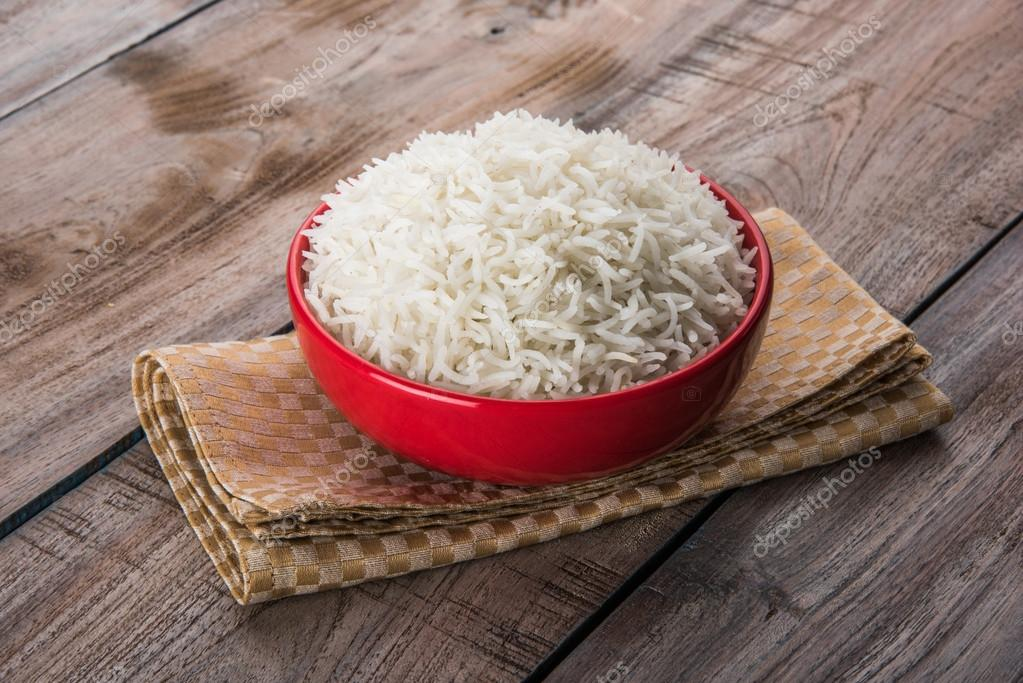plain rice: (383, 151, 704, 351)
